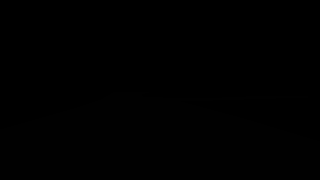turn_right: (194, 61, 209, 76)
